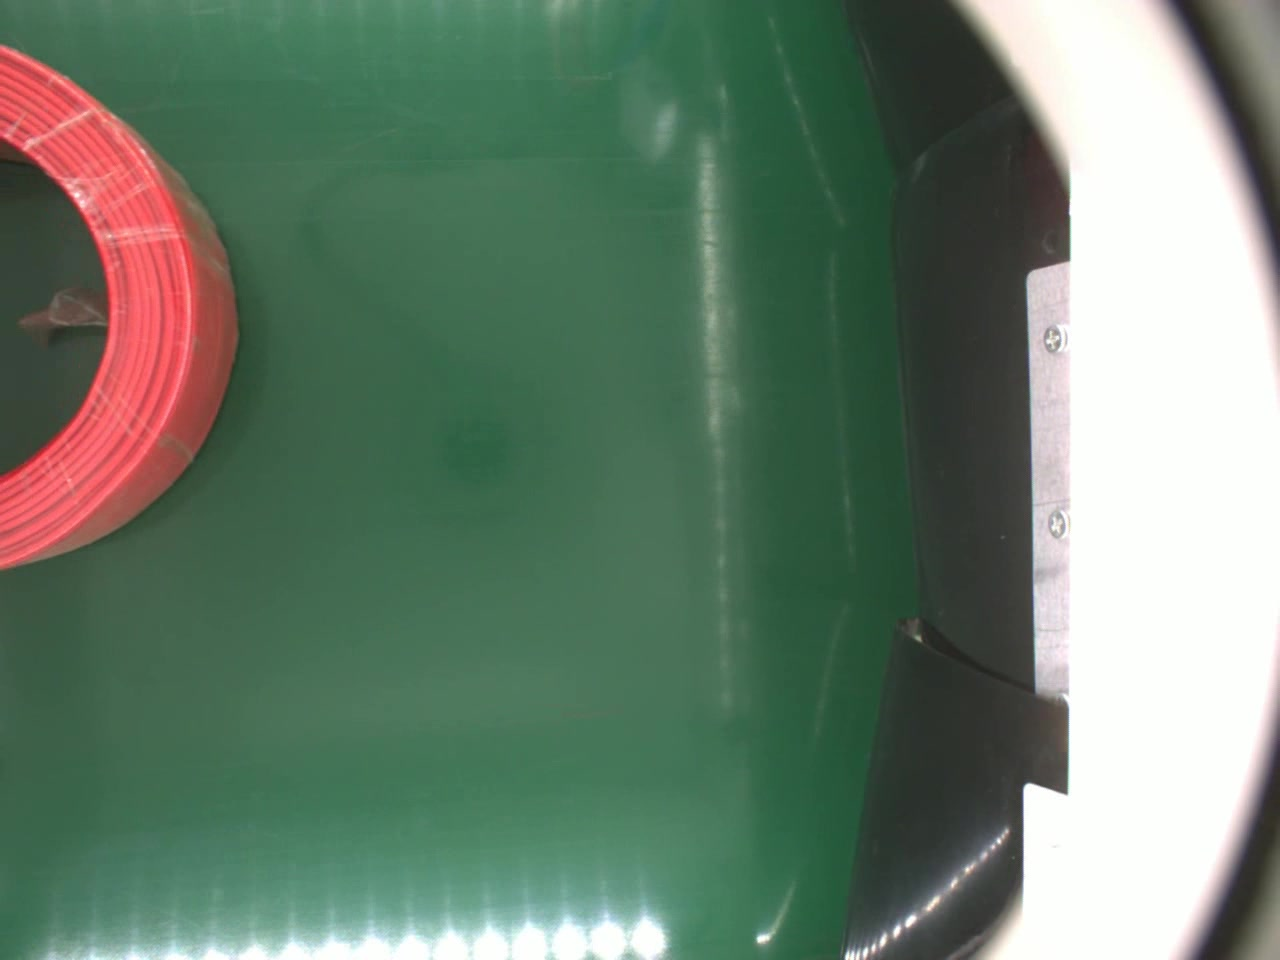red: (0, 39, 237, 561)
